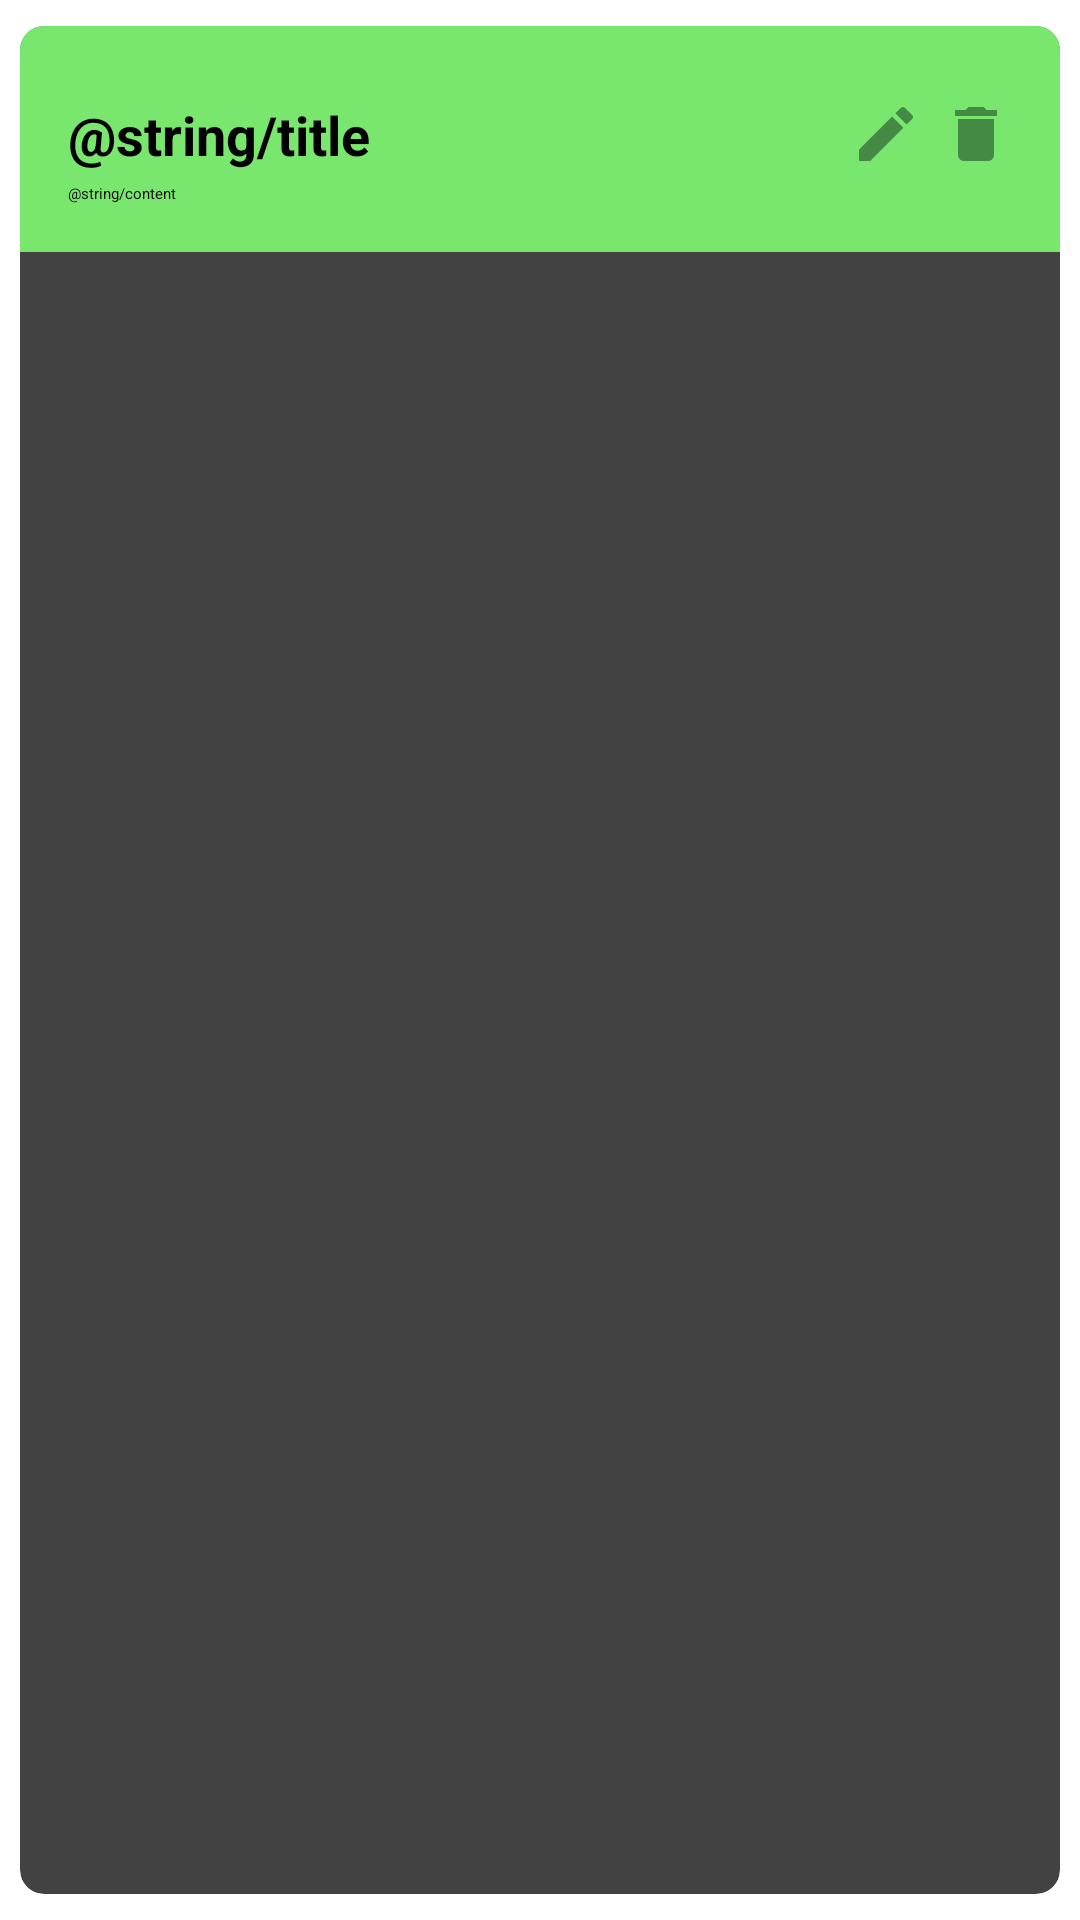

Icons on this 1080px×1920px Android screen, each with the point to tap as point (x, y):
edit: point (886, 134)
